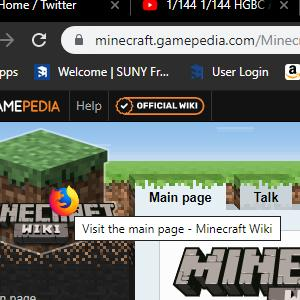firefox: (49, 184, 79, 216)
